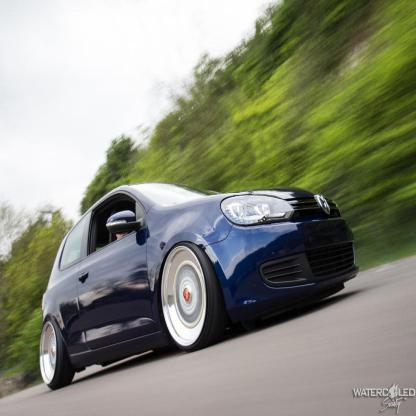car: (37, 172, 347, 368)
